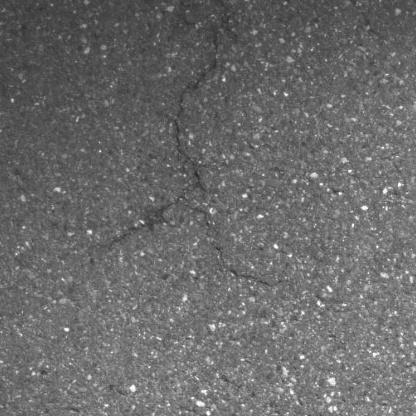Cracks: (95, 192, 228, 265), (170, 32, 223, 197), (225, 266, 277, 293)
